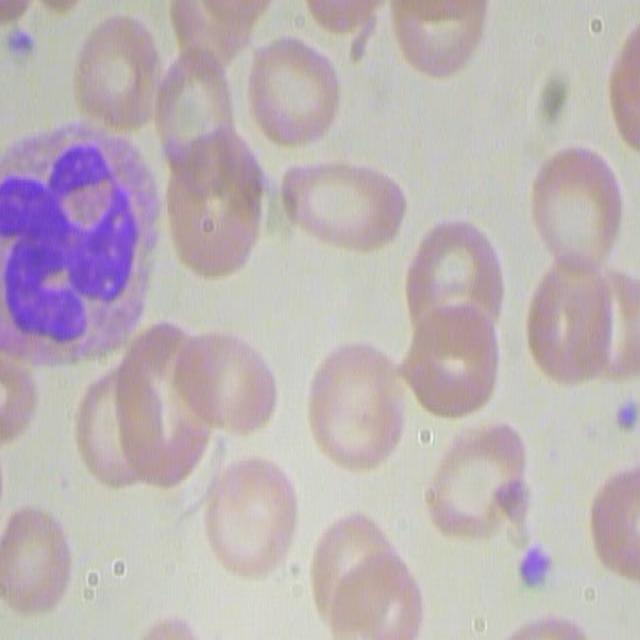RBC: (71, 316, 210, 497), (394, 207, 508, 419), (160, 129, 268, 284), (521, 256, 637, 389), (307, 510, 427, 638), (278, 149, 409, 263), (422, 418, 536, 544), (303, 341, 406, 479), (526, 144, 630, 278), (198, 449, 302, 578), (246, 35, 347, 156), (70, 10, 162, 140), (146, 39, 235, 169), (178, 325, 282, 436), (584, 15, 640, 154), (384, 0, 485, 77), (0, 507, 72, 614), (587, 453, 640, 580), (177, 3, 278, 63), (480, 594, 607, 640), (307, 0, 380, 60), (6, 363, 48, 453), (127, 603, 210, 640)
WBC: (0, 118, 151, 392)
platelets: (514, 539, 556, 595), (9, 18, 42, 80), (614, 396, 640, 438)
